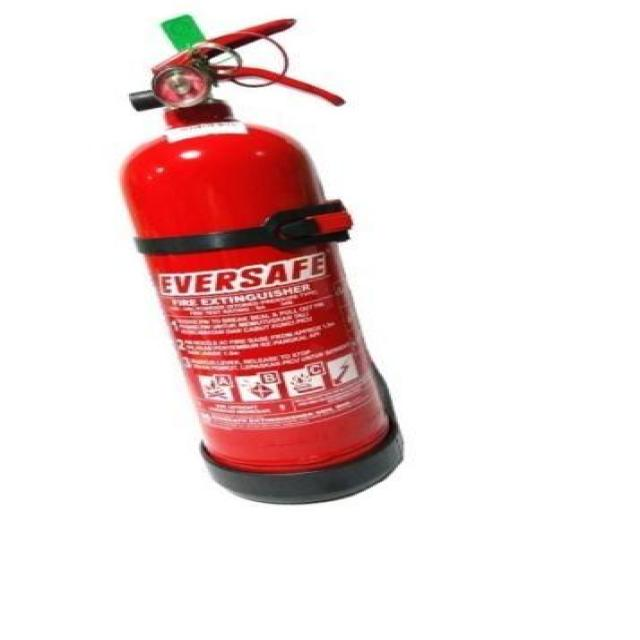fire_extinguisher: (110, 10, 408, 509)
